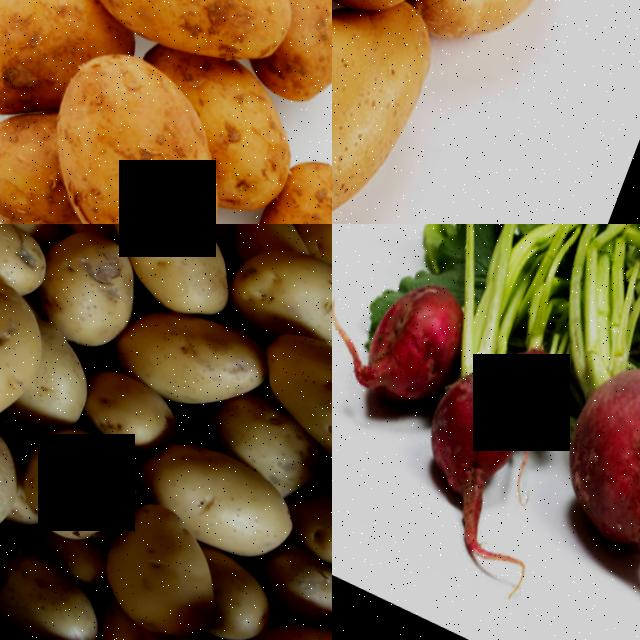potato: (11, 18, 252, 224), (332, 0, 442, 224), (122, 279, 274, 424), (144, 416, 302, 553), (94, 486, 232, 640), (65, 0, 310, 86), (6, 403, 141, 553), (238, 301, 332, 504), (73, 224, 256, 321), (0, 0, 116, 149), (220, 224, 332, 363), (404, 0, 585, 72), (0, 236, 56, 453), (0, 90, 80, 224), (235, 130, 332, 224), (253, 0, 332, 112), (145, 599, 332, 640), (0, 398, 31, 544)
radishes: (332, 224, 602, 542), (510, 242, 640, 601)
